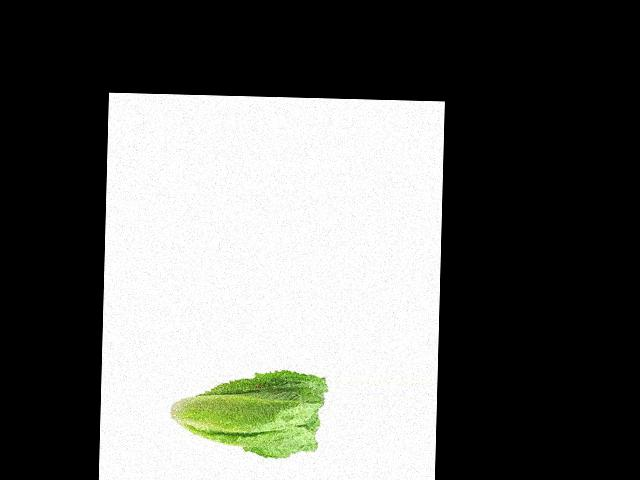lettuce: (172, 367, 323, 450)
